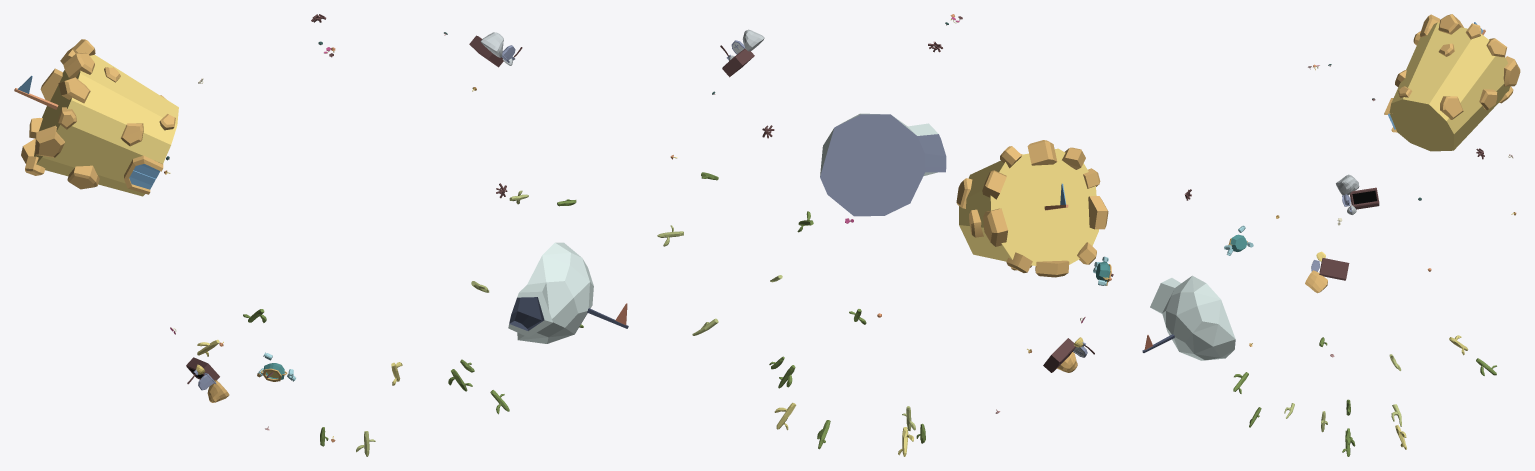
File: PlanetBuffProps.fbx
3 renders of one model, left to right at view 1: azimuth 30°, elevation 25°; view 2: azimuth 150°, elevation 25°; view 3: azimuth 270°, elevation 25°, orthographic. The views are drawn at different scales.
Visible parts, largest first — view 1: Castle, Igloo, Grave2, Grave1; view 2: Castle, Igloo, Grave1, Grave2; view 3: Castle, Igloo, Grave1, Grave2, MagicCauldron.
Part boxes in pixels (box(x1,y1,x2,y2)): Castle: box(21, 39, 178, 196); Igloo: box(508, 242, 593, 343); Grave2: box(469, 32, 522, 67); Grave1: box(186, 357, 229, 402); Castle: box(956, 140, 1108, 277); Igloo: box(820, 113, 946, 216); Grave1: box(1043, 337, 1094, 372); Grave2: box(720, 29, 764, 77); Castle: box(1384, 14, 1520, 151); Igloo: box(1150, 275, 1235, 360); Grave1: box(1305, 251, 1349, 293); Grave2: box(1336, 174, 1379, 214); MagicCauldron: box(1224, 225, 1253, 255).
Size of the model in its own units: 3920 by 3346 by 3260.
